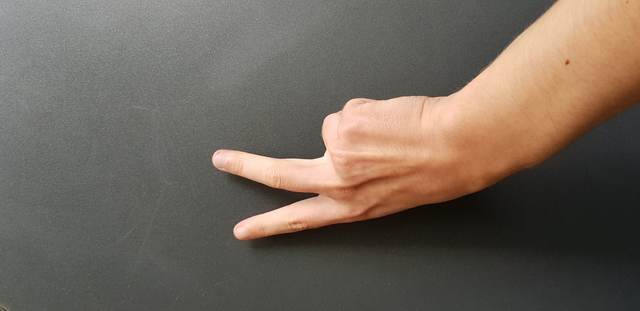Scissors: (195, 75, 522, 248)
